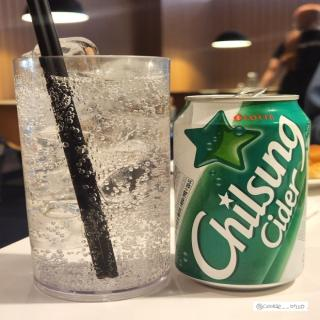cocacola: (170, 87, 312, 294)
